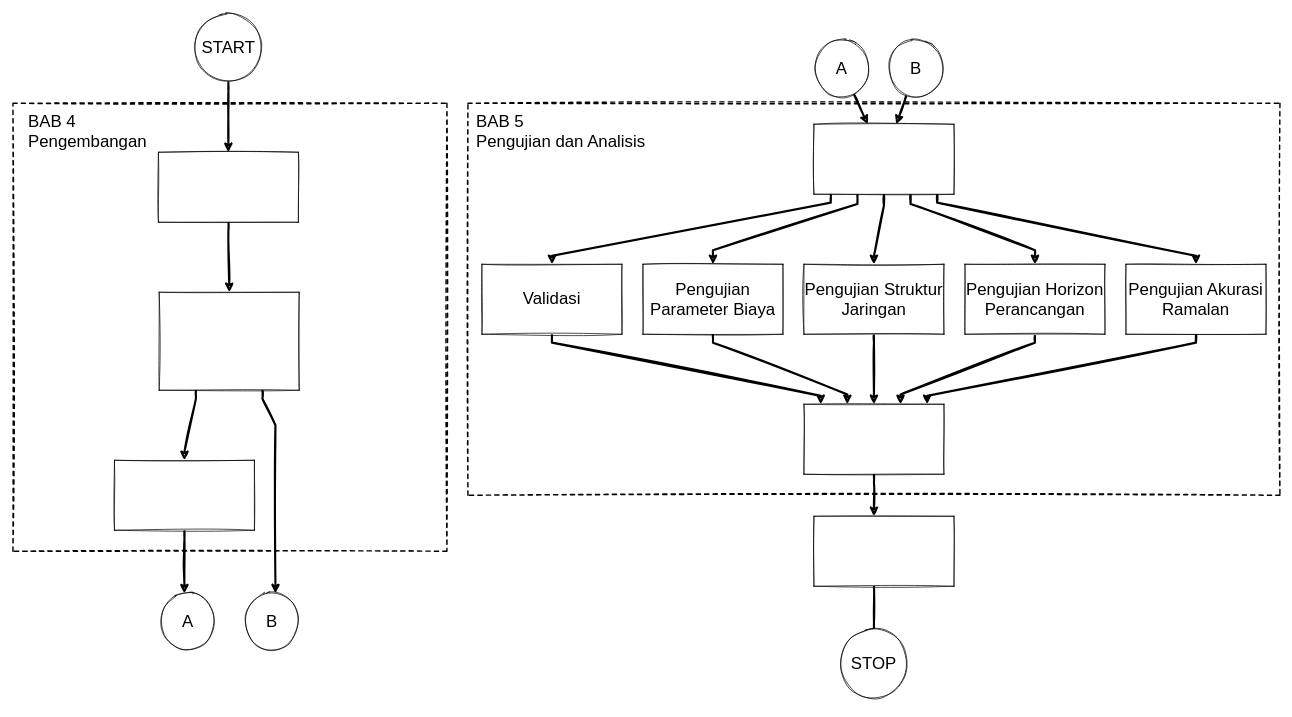
The diagram is 1292 pixels wide and 717 high, and some of its shapes have lost their labels. The shapes that lost their labels are listed below. From the top down, each one's centre as x and y in pixels, then its label:
At (883,159): "Desain Studi Simulasi".
At (228,187): "Pemahaman Masalah".
At (228,341): "Formulasi Pemrograman Integer Campuran".
At (873,439): "Analisis Implikasi Manajerial".
At (184,495): "Pengembangan Algoritma Aproksimasi".
At (883,551): "Penarikan Kesimpulan".
